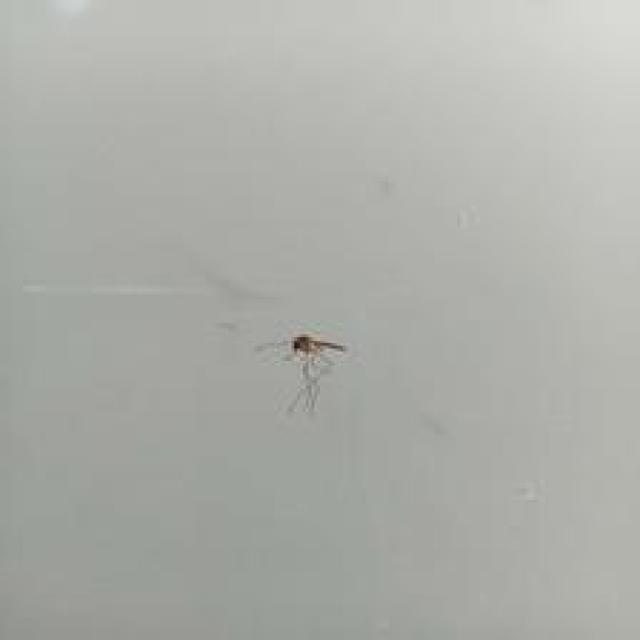Culex: (288, 333, 346, 361)
